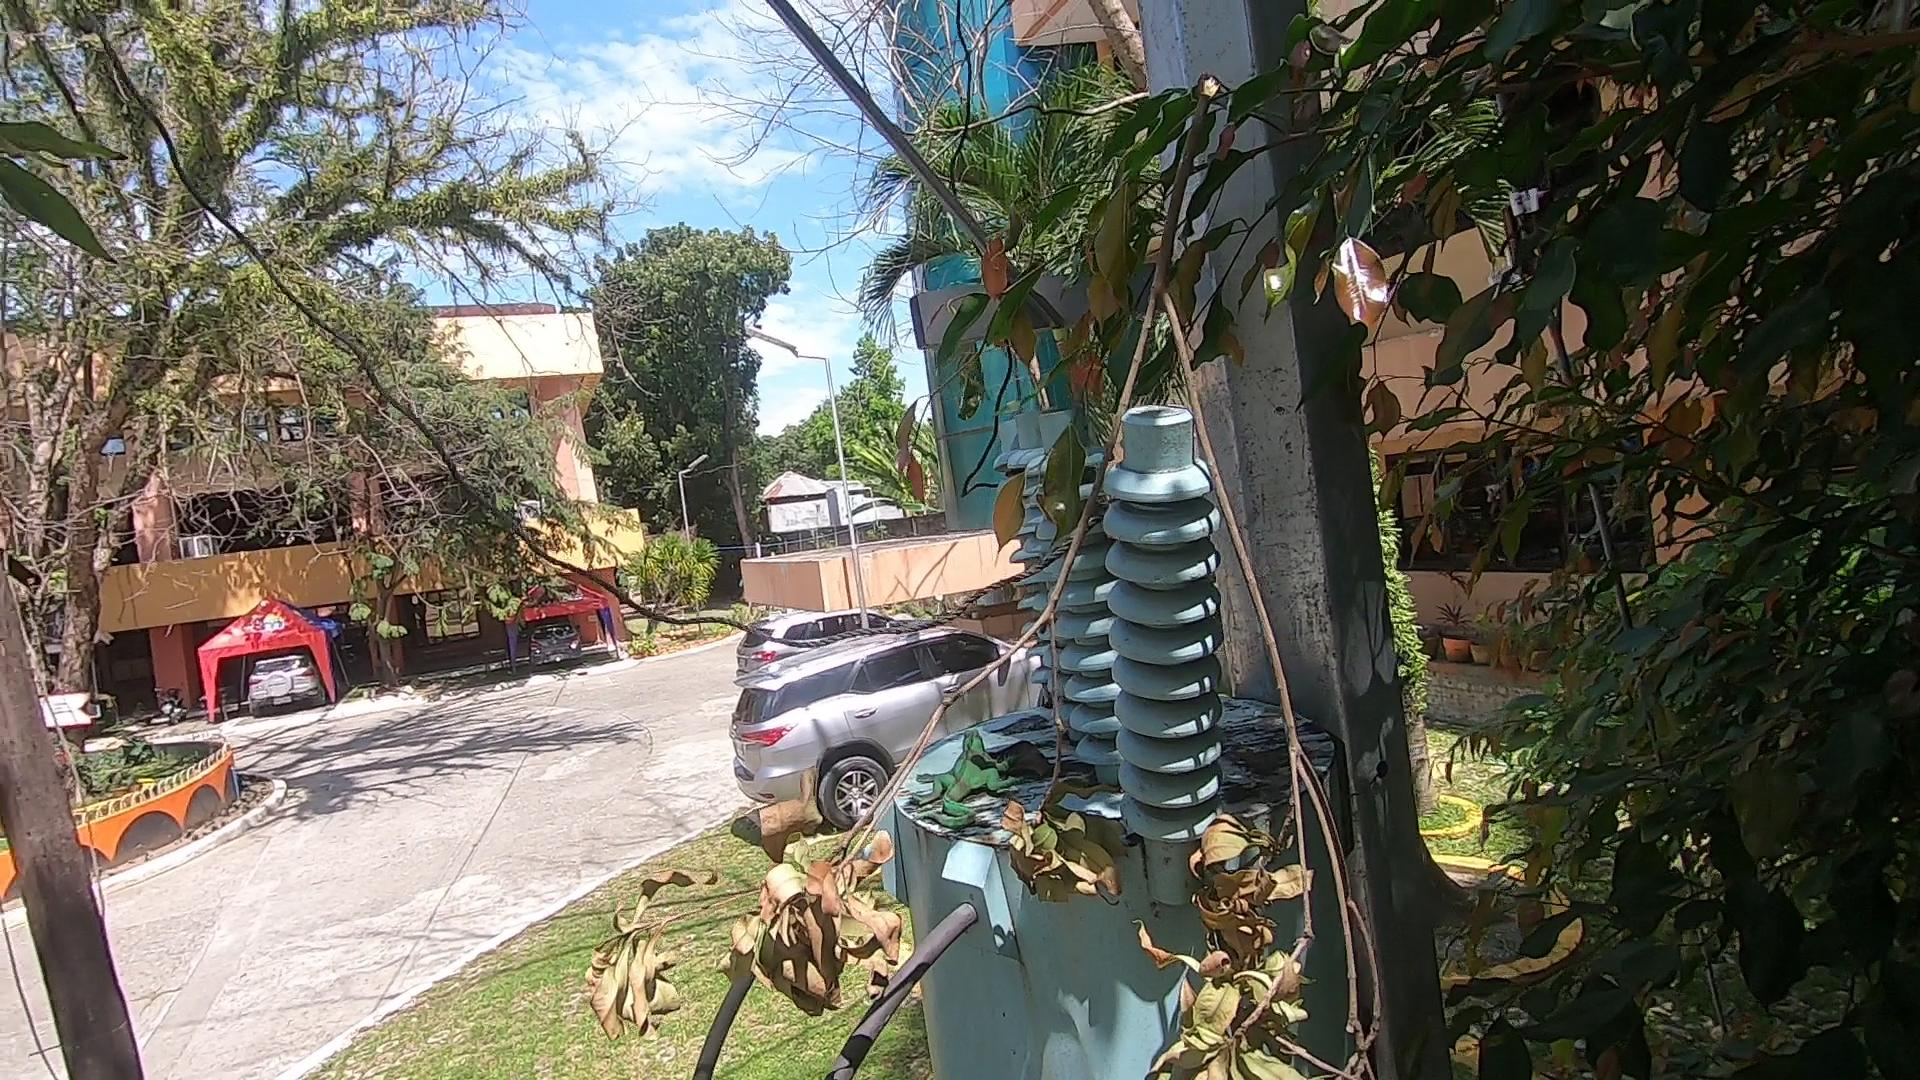branch with leaves: (491, 70, 1406, 1077)
leaf: (1002, 742, 1067, 782)
